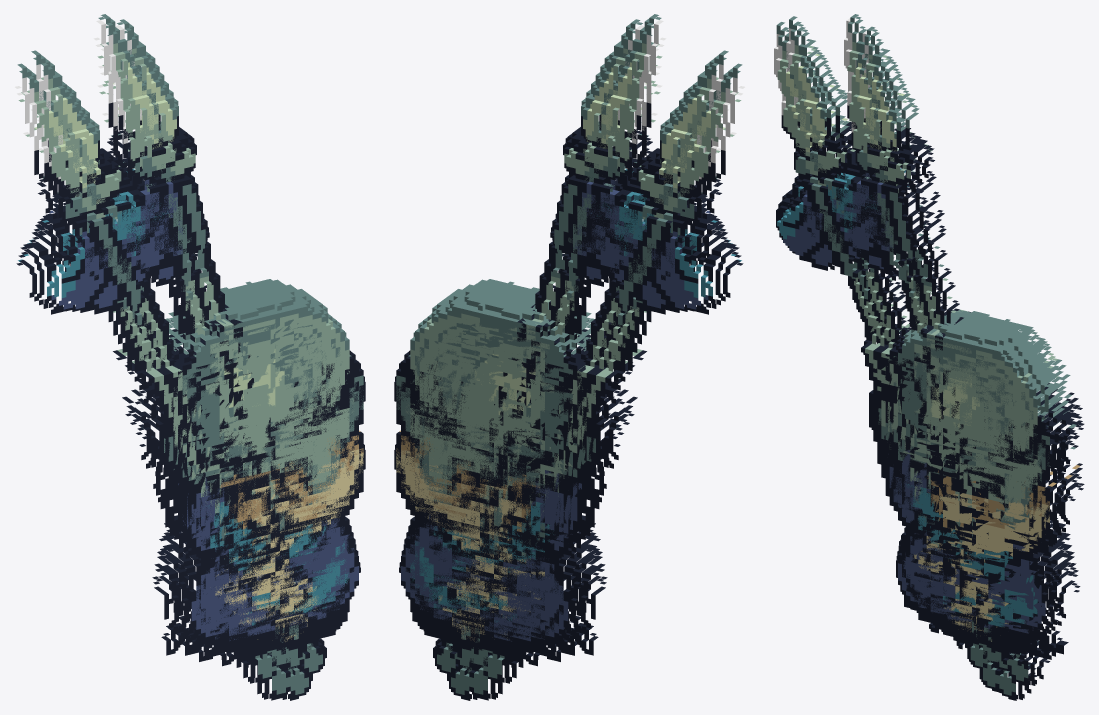
Rendered from lanceiro_correndo.glb.
3 renders of one model, left to right at view 1: azimuth 30°, elevation 25°; view 2: azimuth 150°, elevation 25°; view 3: azimuth 330°, elevation 25°, orthographic. The views are drawn at different scales.
Parts seen in each view (by area): view 1: q0, q1, q4, q2, q3, q5; view 2: q0, q1, q4, q2, q3, q5; view 3: q1, q0, q2, q4, q3, q5.
Boxes of the visible parts, left/top/right/bottom form: q0: left=35, top=14, right=363, bottom=670; q1: left=71, top=19, right=365, bottom=676; q4: left=15, top=63, right=349, bottom=684; q2: left=98, top=42, right=360, bottom=700; q3: left=31, top=50, right=349, bottom=667; q5: left=16, top=95, right=358, bottom=700; q0: left=396, top=14, right=724, bottom=670; q1: left=394, top=19, right=688, bottom=676; q4: left=410, top=63, right=744, bottom=684; q2: left=399, top=42, right=661, bottom=700; q3: left=410, top=50, right=728, bottom=667; q5: left=401, top=96, right=743, bottom=700; q1: left=826, top=26, right=1084, bottom=685; q0: left=792, top=14, right=1082, bottom=672; q2: left=844, top=59, right=1080, bottom=700; q4: left=774, top=22, right=1070, bottom=670; q3: left=786, top=16, right=1070, bottom=663; q5: left=776, top=58, right=1078, bottom=692.
Bounding box in the file's own units: 72 × 149 × 14.
Materials: 1 (1 with a texture image).
